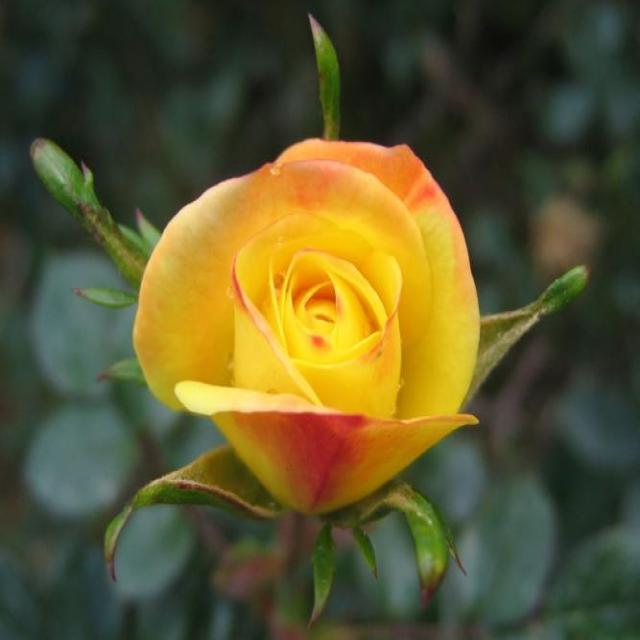rose: (54, 74, 554, 580)
